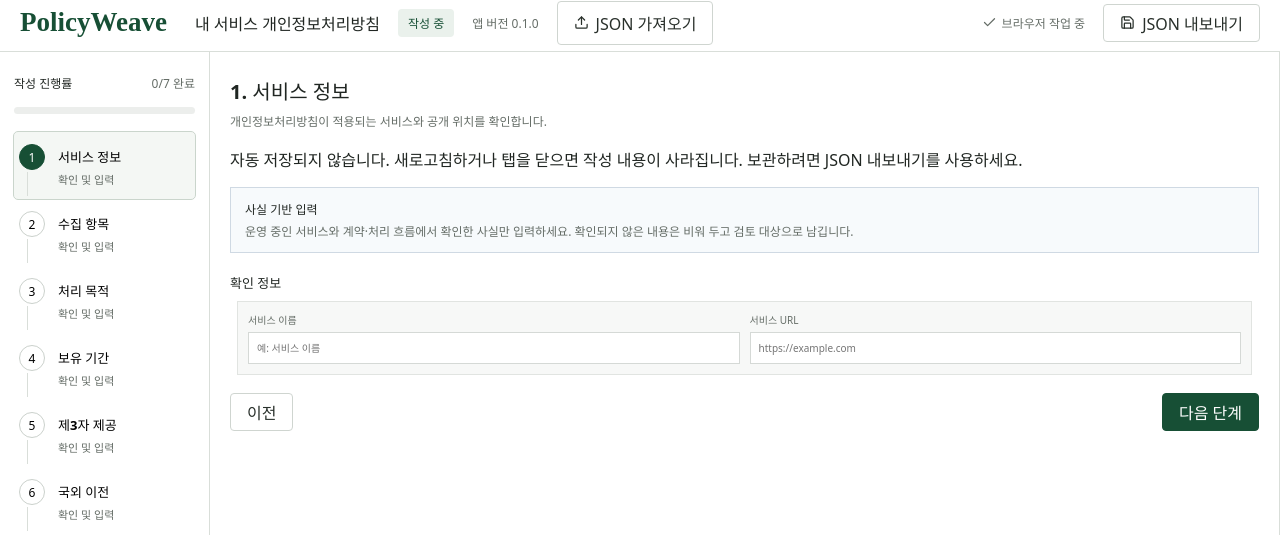
Test: authoring focus transitions › moves focus to the owning step when a review warning is activated
What coordinates should you click on to do the following:
click the button "1 서비스 정보 확인 및 입력"
I would click on:
 (104, 166)
Its box is x1=14 y1=132 x2=195 y2=199.
(page scrolled)
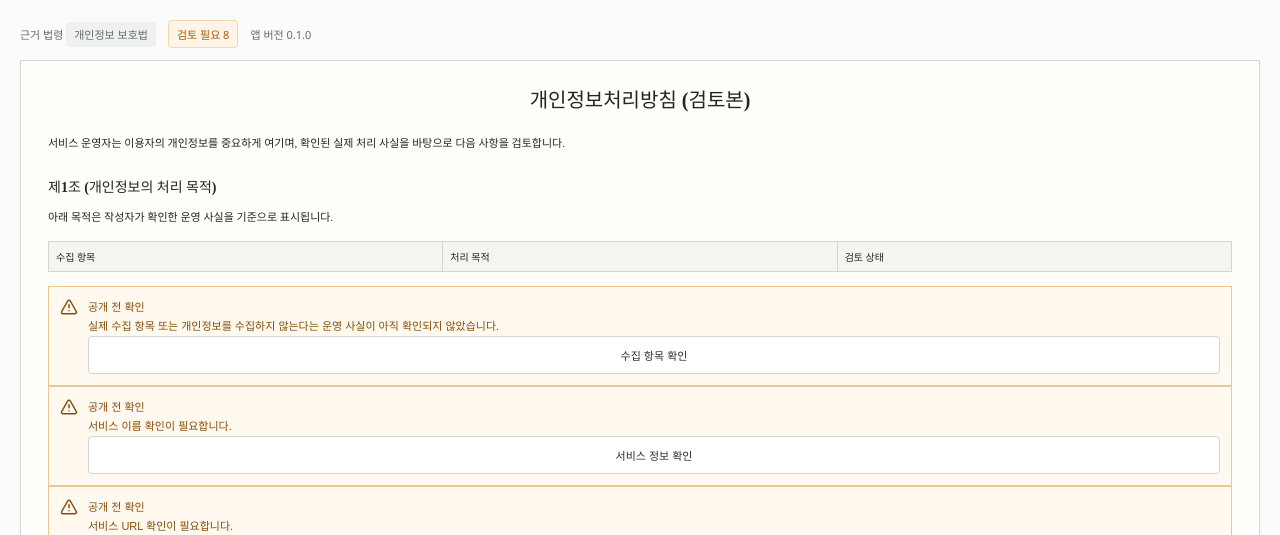
What coordinates should you click on to do the following:
click the button "수집 항목 확인"
I would click on:
 (654, 355)
Its box is x1=88 y1=336 x2=1220 y2=374.
(page scrolled)
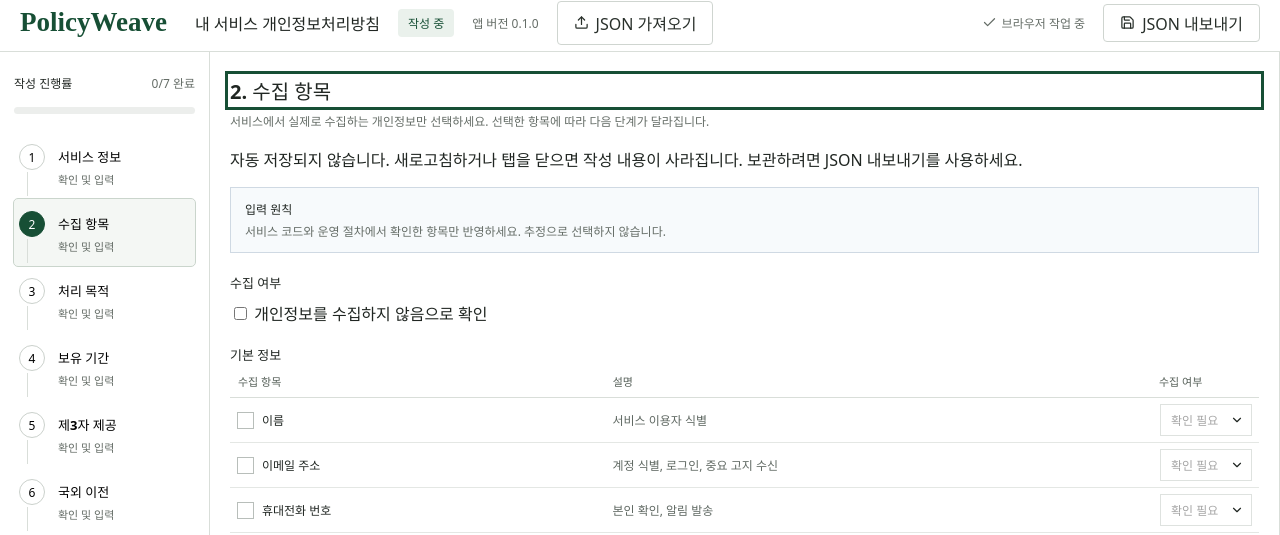
Now the heading "2. 수집 항목" is shown, box x1=230 y1=78 x2=331 y2=105
